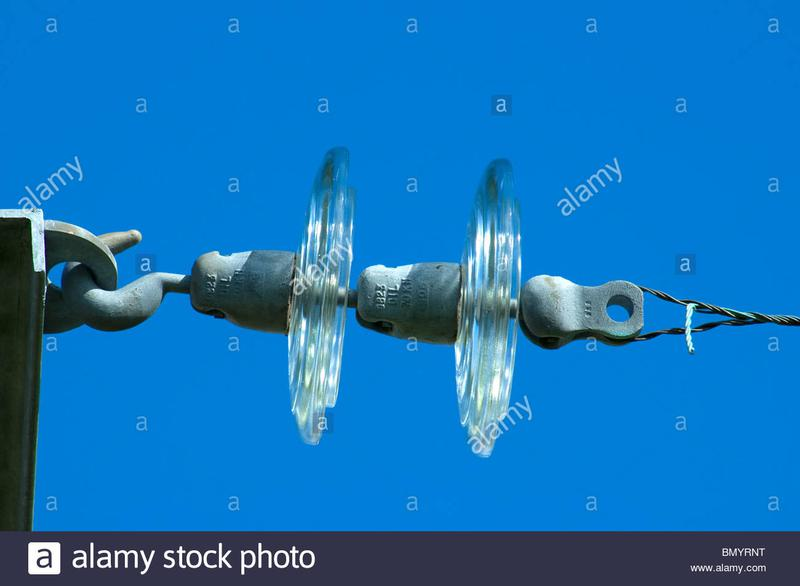isolator: (282, 144, 522, 458)
